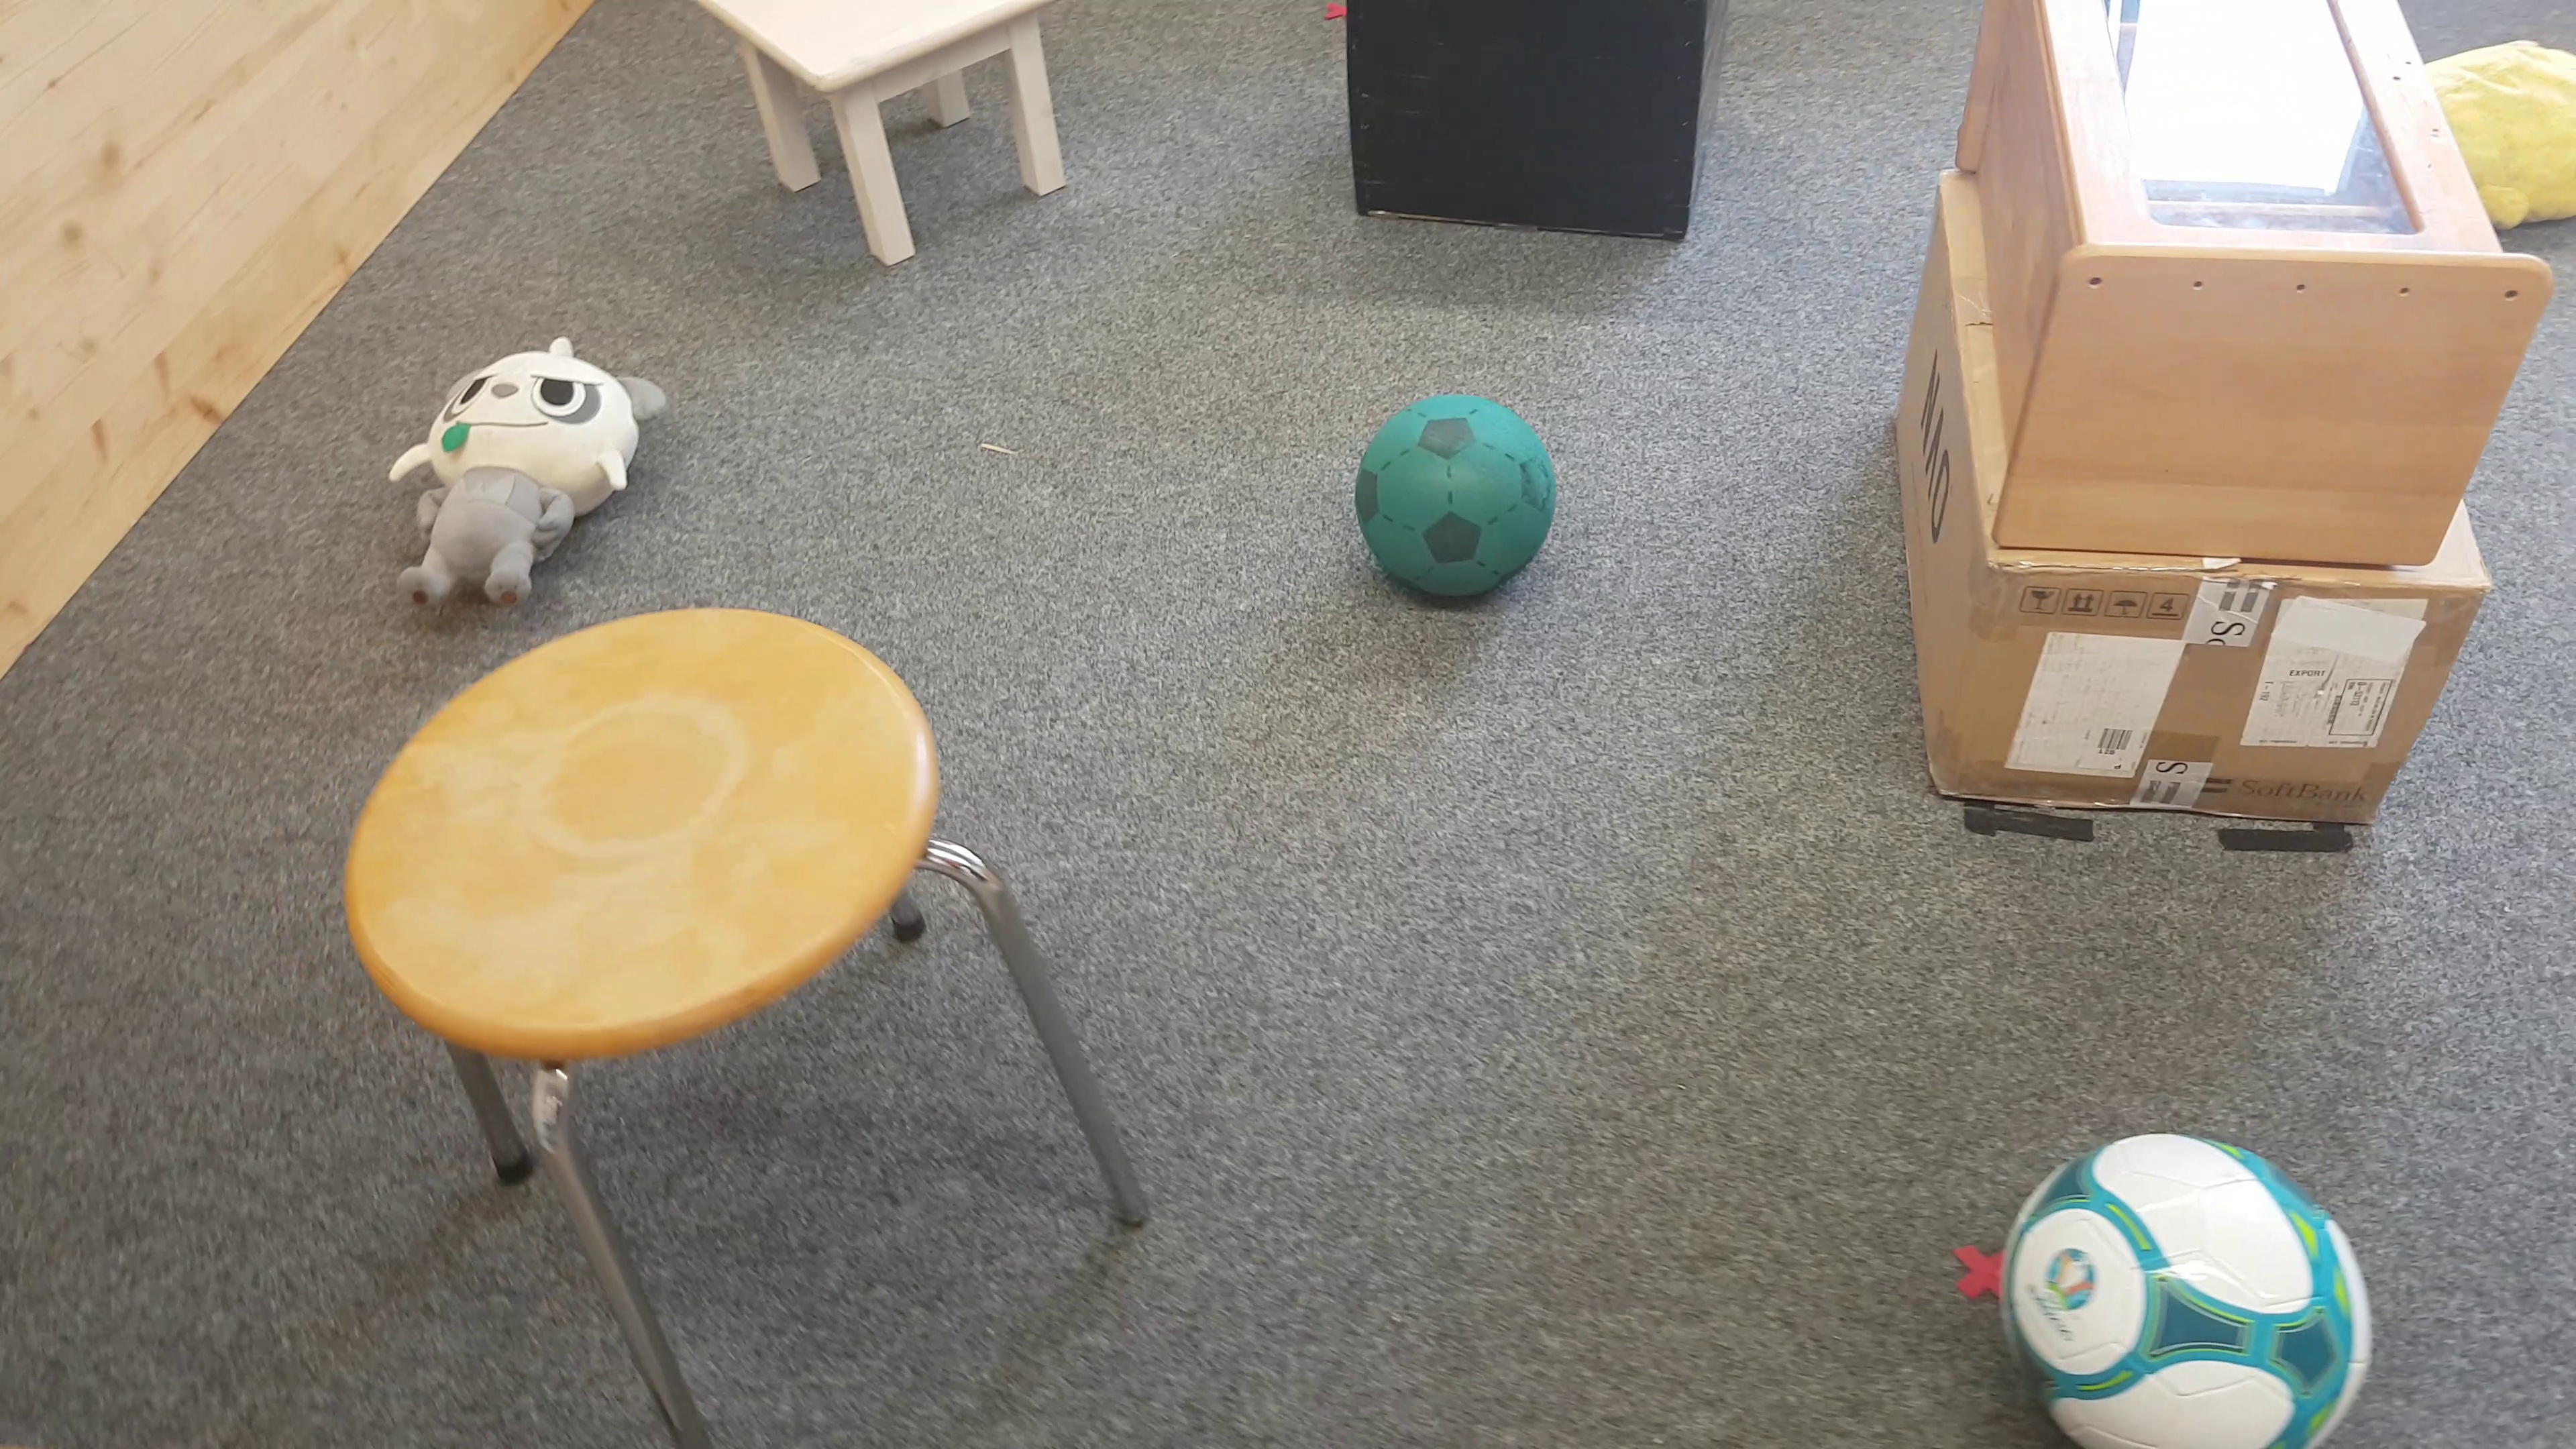grasp: (391, 336, 663, 610), (2465, 34, 2576, 207)
kick: (2015, 1134, 2367, 1449), (1355, 391, 1557, 612)
push: (1345, 2, 1727, 248)
